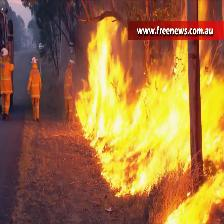fire: (84, 28, 222, 220)
